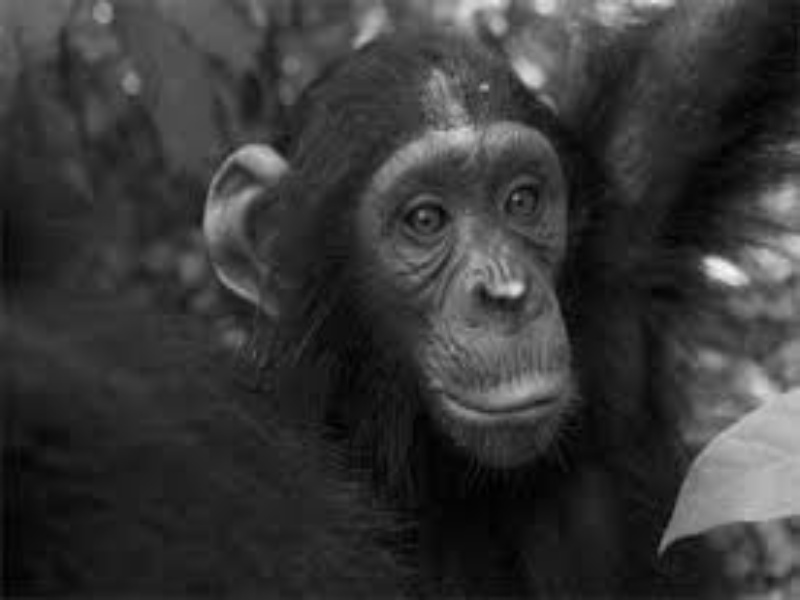monkey: (171, 24, 695, 508)
